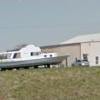Boat: (1, 43, 72, 76)
